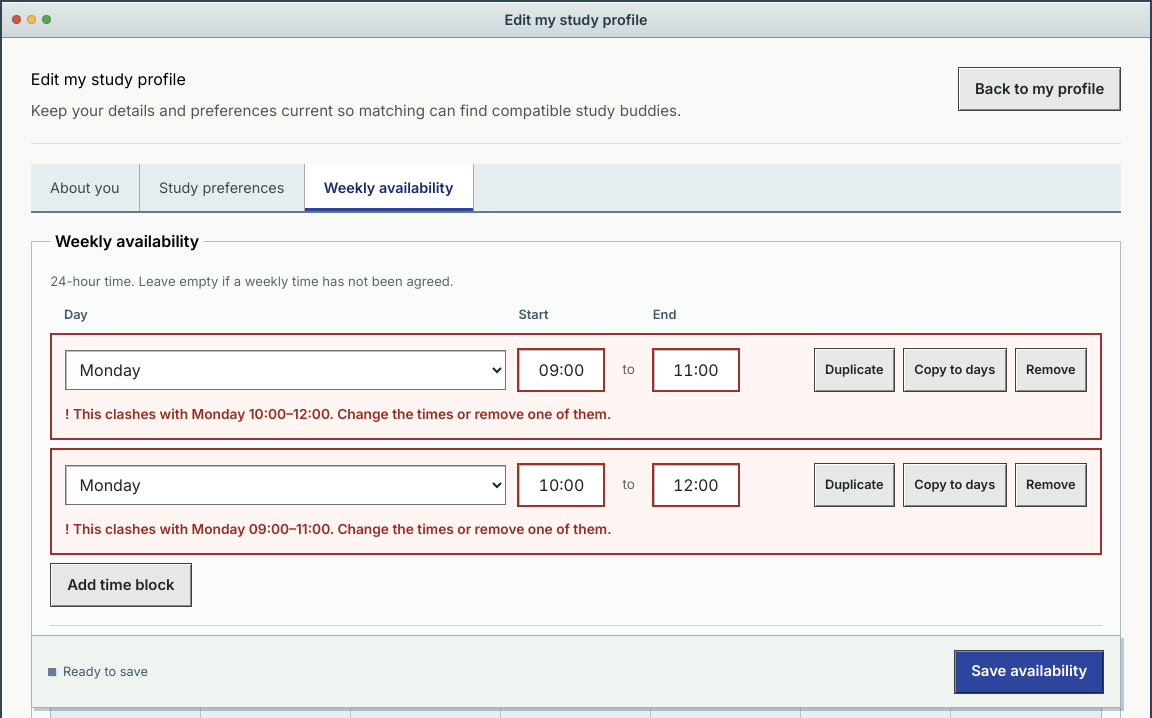
Scenario: edit study profile › rejects overlapping time blocks before saving
Click the button "Save availability" at (1029, 671), box [954,649,1104,693]
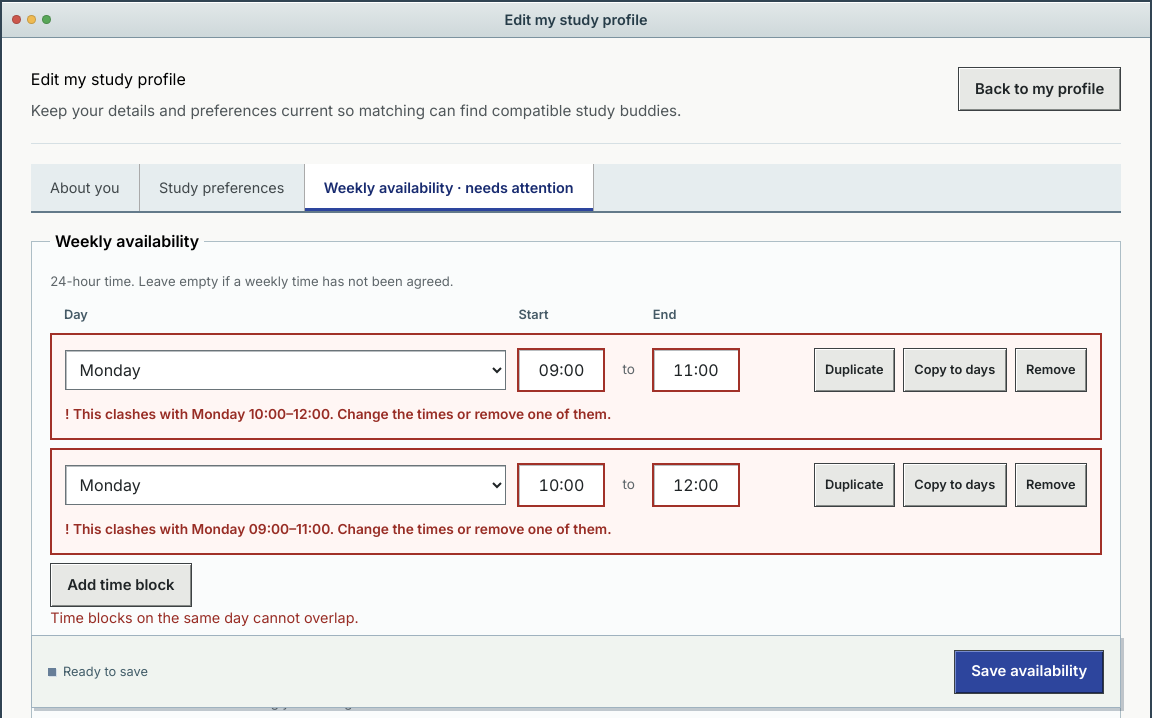
Check: the text "Time blocks on the same day cannot overlap." is shown, box [50,609,359,626]
